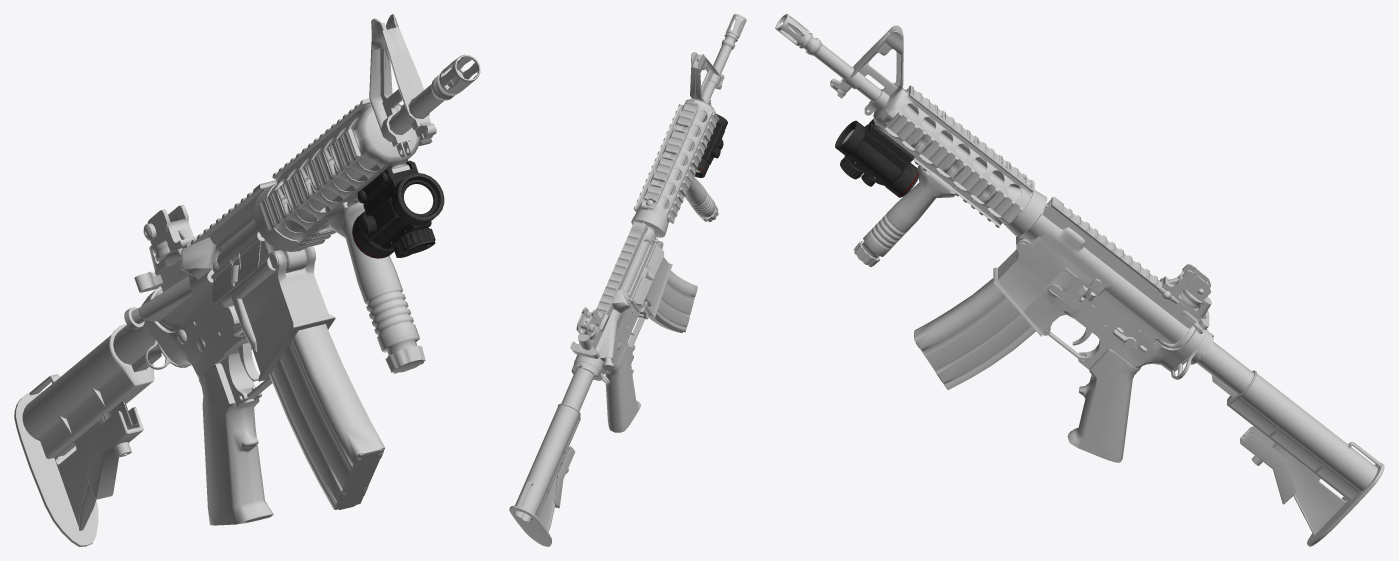
Rendered from mdlAssaultRiflePickup Variant.fbx.
The picture shows the model from 3 angles, left to right: view 1: azimuth 30°, elevation 25°; view 2: azimuth 150°, elevation 25°; view 3: azimuth 270°, elevation 25°; orthographic projection. The views are drawn at different scales.
Visible parts, largest first — view 1: Model_0_Mesh_0_0.004, Model_0_Mesh_5_0.002, Model2, LaserSight, Model_0_Mesh_1_0.003; view 2: Model_0_Mesh_0_0.004, Model2, Model_0_Mesh_5_0.002, Model_0_Mesh_1_0.003, LaserSight; view 3: Model_0_Mesh_0_0.004, Model_0_Mesh_5_0.002, Model2, LaserSight, Model_0_Mesh_1_0.003.
Boxes of the visible parts, left/top/right/bottom form: Model_0_Mesh_0_0.004: left=14, top=14, right=480, bottom=546; Model_0_Mesh_5_0.002: left=269, top=324, right=384, bottom=509; Model2: left=198, top=363, right=273, bottom=525; LaserSight: left=352, top=160, right=444, bottom=258; Model_0_Mesh_1_0.003: left=143, top=205, right=197, bottom=270; Model_0_Mesh_0_0.004: left=509, top=14, right=746, bottom=546; Model2: left=605, top=346, right=641, bottom=432; Model_0_Mesh_5_0.002: left=649, top=270, right=697, bottom=333; Model_0_Mesh_1_0.003: left=576, top=307, right=609, bottom=349; LaserSight: left=695, top=114, right=727, bottom=177; Model_0_Mesh_0_0.004: left=775, top=14, right=1384, bottom=546; Model_0_Mesh_5_0.002: left=914, top=278, right=1035, bottom=389; Model2: left=1067, top=348, right=1140, bottom=462; LaserSight: left=835, top=118, right=919, bottom=197; Model_0_Mesh_1_0.003: left=1158, top=264, right=1211, bottom=317.
Bounding box in the file's own units: 0.8753 × 7.49 × 7.79.
